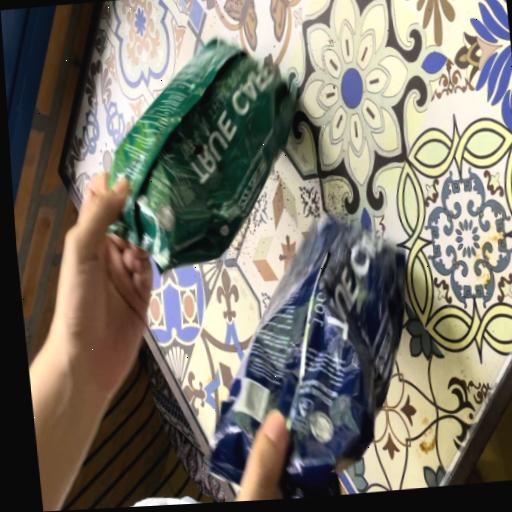cafe_hat: (207, 216, 405, 499)
cafe_xay: (109, 39, 297, 270)
